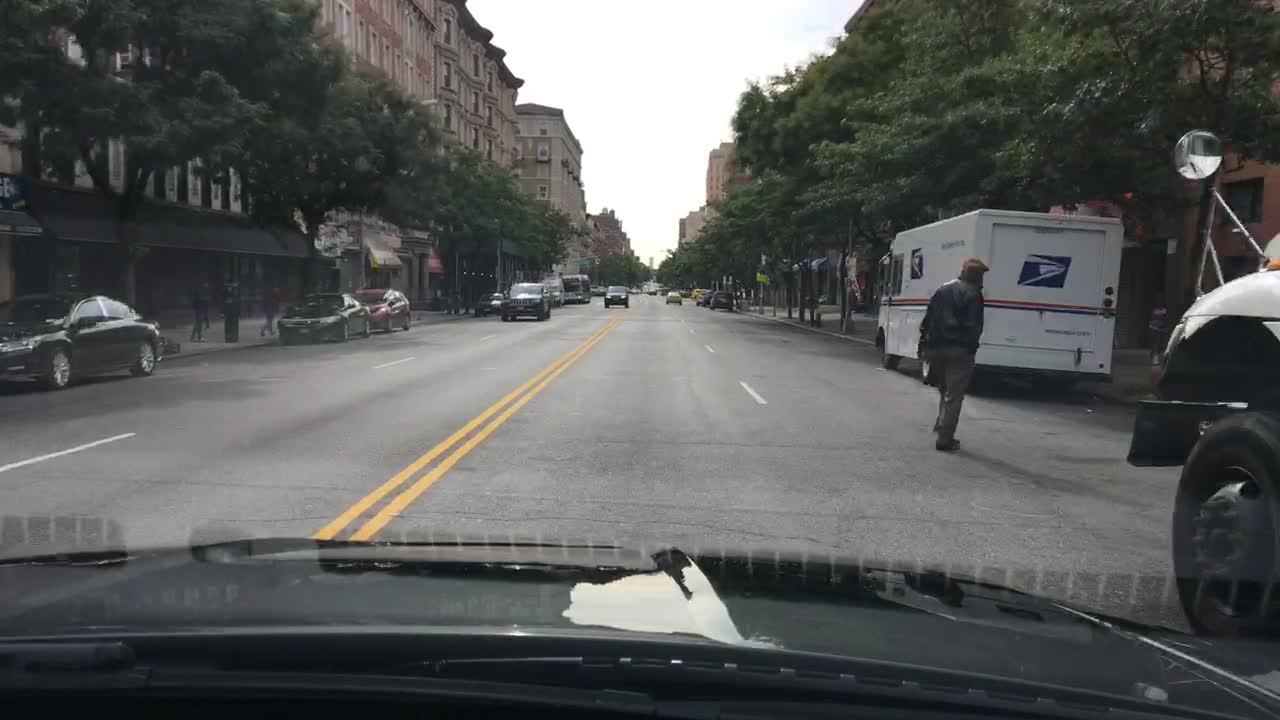bus: (562, 273, 589, 305)
car: (0, 290, 162, 384), (276, 291, 376, 343), (357, 286, 411, 333), (502, 281, 552, 321), (602, 286, 631, 311), (710, 290, 742, 311), (477, 291, 503, 315), (547, 278, 566, 305), (695, 289, 721, 306), (665, 290, 683, 304), (693, 286, 711, 296), (678, 286, 693, 295), (591, 285, 607, 293), (660, 285, 671, 296), (631, 286, 642, 295)
person: (906, 256, 989, 452), (180, 278, 208, 349), (217, 273, 242, 349), (1150, 290, 1170, 362), (258, 276, 281, 336), (840, 276, 858, 332)
traffic sign: (575, 259, 590, 264), (594, 259, 601, 263)
truck: (1115, 216, 1278, 666), (875, 215, 1119, 384)
